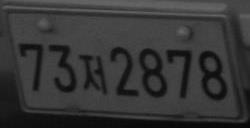2: (108, 45, 140, 96)
3: (47, 43, 78, 94)
7: (17, 42, 44, 92), (168, 48, 193, 99)
8: (197, 49, 229, 101), (141, 47, 167, 97)
저: (79, 54, 108, 95)
